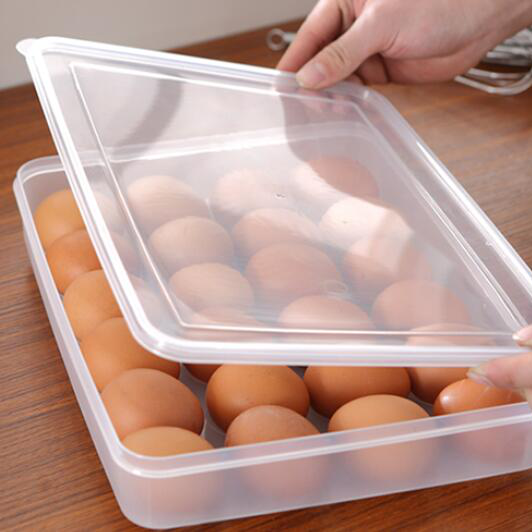egg: (25, 158, 525, 466)
